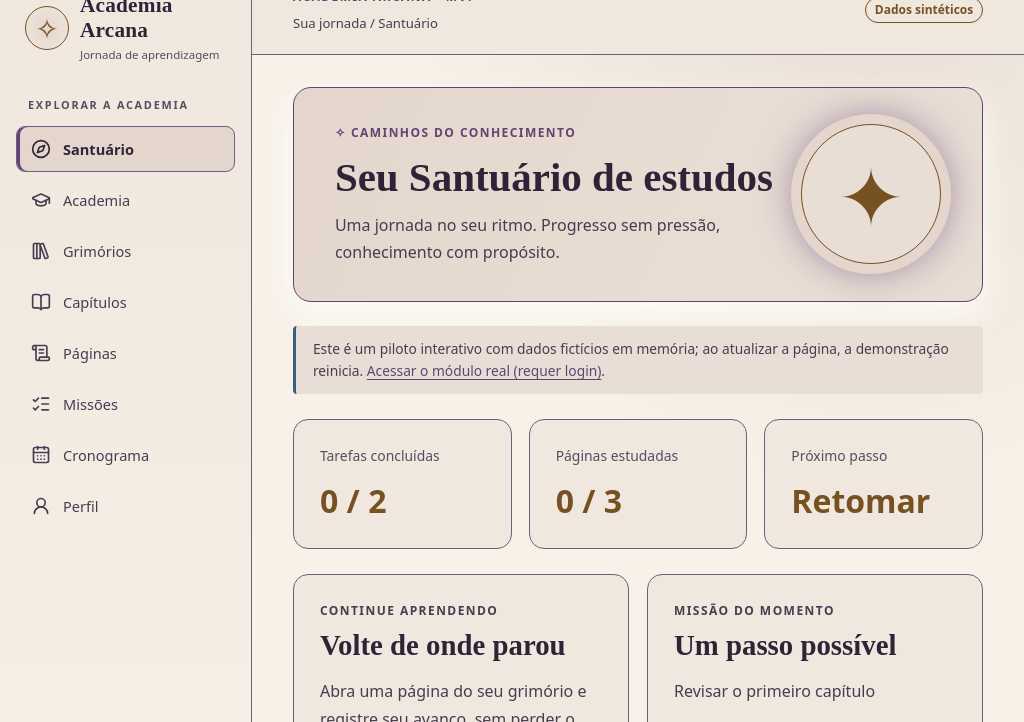
it: MVP synthetic journey pilot › navigates from the Sanctuary to the grimoire, chapter and page
This screenshot has width=1024, height=722.
Expected: the heading "Seu Santuário de estudos" is shown, 335,155 -> 781,200
Click the button "Grimórios".
click(126, 251)  # box 16,228 -> 235,274
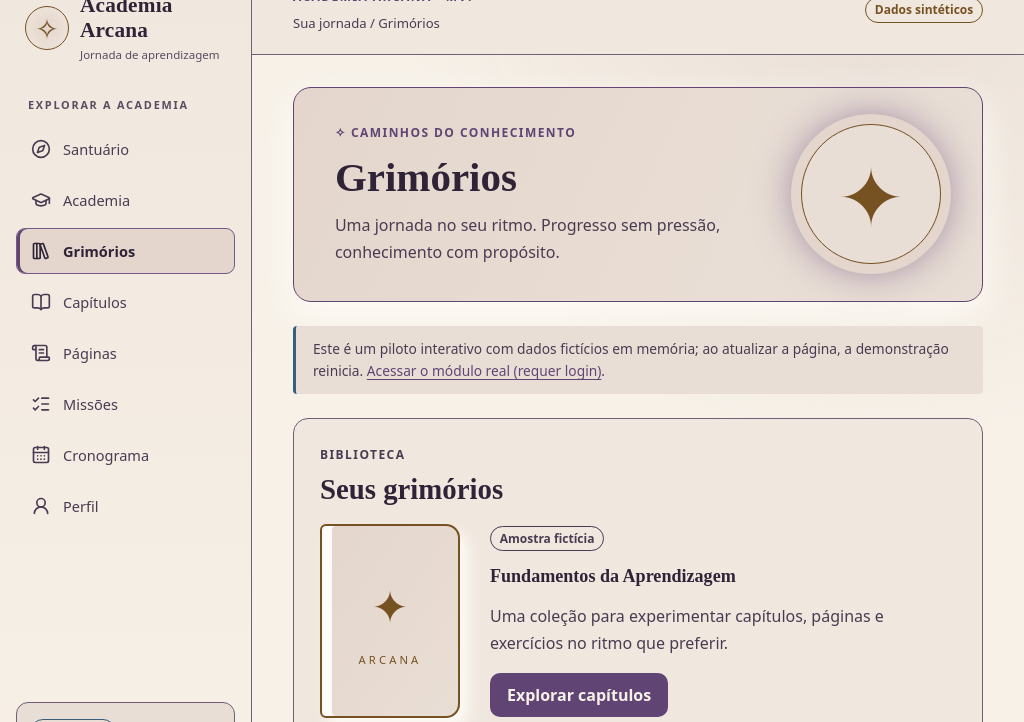
Now the heading "Seus grimórios" is shown, box 320,473 -> 503,505
Click the button "Explorar capítulos".
click(579, 695)  # box 490,673 -> 668,717
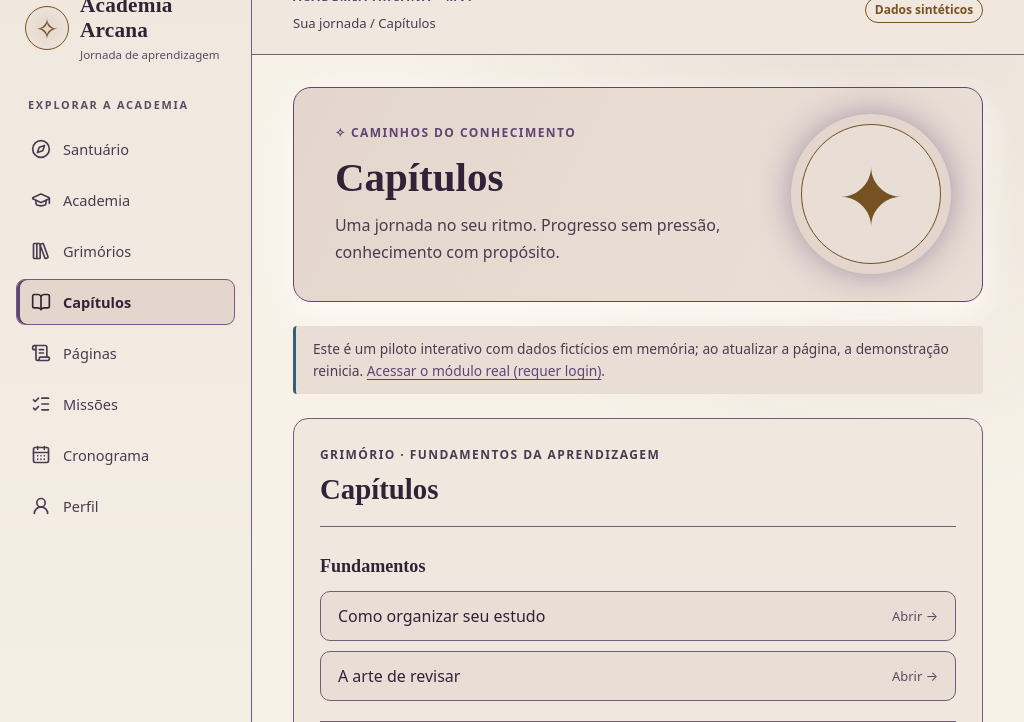
Now the heading "Capítulos" below "Grimório · Fundamentos da Aprendizagem" is shown, box 320,473 -> 438,505
Click the button "Como organizar seu estudo Abrir →".
click(442, 616)  # box 320,591 -> 956,641
(page scrolled)
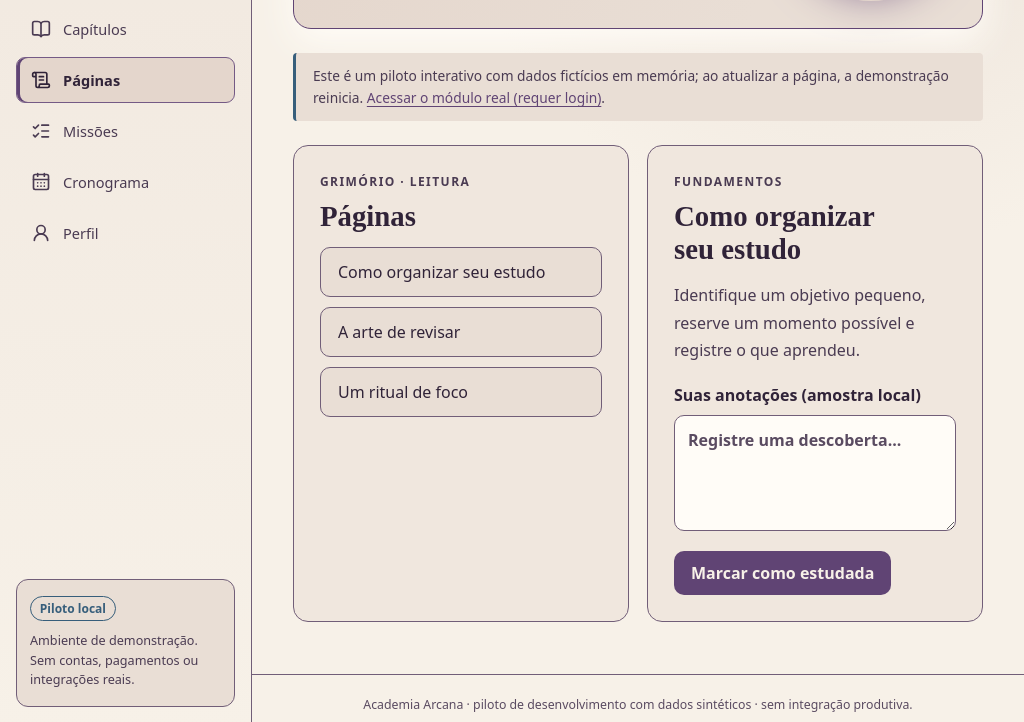
Now the heading "Como organizar seu estudo" is shown, box 674,200 -> 875,265
Now the text box labelled "Suas anotações (amostra local)" is shown, box 674,415 -> 956,531
